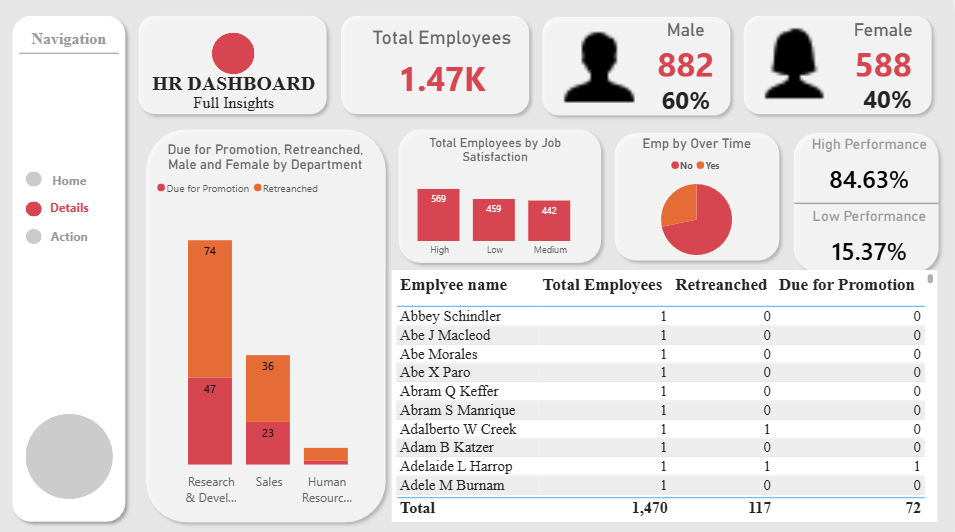

The dashboard page shown, as its layout file describes it:
{"tool":"powerbi","page":{"name":"Details","canvas":[1280,720],"ordinal":1},"visuals":[{"type":"shape","box":[16.5,12.3,168.8,693],"z":0},{"type":"shape","box":[185.2,12.3,269,149.6],"z":1000},{"type":"shape","box":[454.2,12.3,269,149.6],"z":2000},{"type":"shape","box":[723.2,13.7,269,149.6],"z":3000},{"type":"shape","box":[992.1,12.3,269,149.6],"z":4000},{"type":"shape","box":[194.9,163.3,337.6,542],"z":5000},{"type":"shape","box":[532.4,163.3,288.2,196.2],"z":6000},{"type":"shape","box":[820.6,168.8,237.4,188],"z":7000},{"type":"shape","box":[1058,168.8,211.3,203.1],"z":8000},{"type":"cardVisual","title":"Total Employees","fields":{"Data":["All Measures.Total Employees"]},"box":[475.7,35.7,247.1,107.1],"z":9000},{"type":"cardVisual","title":"Female","fields":{"Data":["All Measures.Female"]},"box":[1115.7,25.7,144.3,94.3],"z":10000},{"type":"cardVisual","title":"Male","fields":{"Data":["All Measures.Male"]},"box":[857.1,25.7,134.3,94.3],"z":11000},{"type":"cardVisual","title":"Total Employees","fields":{"Data":["All Measures.% male"]},"box":[857.1,98.6,134.3,65.7],"z":12000},{"type":"cardVisual","title":"Total Employees","fields":{"Data":["All Measures.% female"]},"box":[1127.1,91.4,132.9,75.7],"z":13000},{"type":"textbox","box":[201.4,91.4,238.6,50],"z":14000},{"type":"textbox","box":[201.4,120,238.6,42.9],"z":15000},{"type":"shape","box":[291.4,42.9,57.1,55.7],"z":16000},{"type":"image","box":[1000,27.1,137.1,115.7],"z":17000},{"type":"image","box":[740,31.4,137.1,115.7],"z":18000},{"type":"shape","box":[1067.6,264.8,192.1,12.3],"z":19000},{"type":"pieChart","title":"Emp by Over Time","fields":{"Y":["All Measures.Total Employees"],"Category":["Data.OverTime"]},"box":[832.9,179.8,209.9,177],"z":20000},{"type":"columnChart","title":"Total Employees by Job Satisfaction","fields":{"Category":["Data.Job Satisfaction levels"],"Y":["All Measures.Total Employees"]},"box":[532.4,179.8,275.8,171.5],"z":21000},{"type":"cardVisual","title":"High Performance","fields":{"Data":["All Measures.% High Performance"]},"box":[1069,181.1,200.3,90.6],"z":22000},{"type":"columnChart","fields":{"Y":["All Measures.Due for Promotion","All Measures.Retreanched"],"Category":["Data.Department"]},"box":[214.1,188,299.1,494],"z":23000},{"type":"cardVisual","title":"Low Performance","fields":{"Data":["All Measures.% Low Performance"]},"box":[1068.7,276.1,200,90.8],"z":24000},{"type":"tableEx","fields":{"Values":["HR employee data.Emplyee name","All Measures.Total Employees","All Measures.Retreanched","All Measures.Due for Promotion"]},"box":[532.4,359.5,727.3,336.2],"z":25000},{"type":"shape","box":[43.9,229.2,22,20.6],"z":26000},{"type":"shape","box":[43.9,267.6,22,20.6],"z":27000},{"type":"shape","box":[43.9,304.6,22,20.6],"z":28000},{"type":"shape","box":[43.9,551.6,116.6,113.9],"z":29000},{"type":"textbox","box":[16.5,35.7,168.8,43.9],"z":30000},{"type":"shape","box":[35.7,64.5,133.1,12.3],"z":31000},{"type":"actionButton","box":[52.1,295,100.2,39.8],"z":32000},{"type":"actionButton","box":[52.1,256.6,100.2,39.8],"z":33000},{"type":"actionButton","box":[52.1,219.6,100.2,39.8],"z":34000}]}

Visuals, with their boxes in screenshot pixels (x1, y1, x2, y2), scaled from the page's 1280x720 canvas onto the 955x532 screenshot:
shape: Rect(12, 9, 138, 521)
shape: Rect(138, 9, 339, 120)
shape: Rect(339, 9, 540, 120)
shape: Rect(540, 10, 740, 121)
shape: Rect(740, 9, 941, 120)
shape: Rect(145, 121, 397, 521)
shape: Rect(397, 121, 612, 266)
shape: Rect(612, 125, 789, 264)
shape: Rect(789, 125, 947, 275)
"Total Employees" cardVisual: Rect(355, 26, 539, 106)
"Female" cardVisual: Rect(832, 19, 940, 89)
"Male" cardVisual: Rect(639, 19, 740, 89)
"Total Employees" cardVisual: Rect(639, 73, 740, 121)
"Total Employees" cardVisual: Rect(841, 68, 940, 123)
textbox: Rect(150, 68, 328, 104)
textbox: Rect(150, 89, 328, 120)
shape: Rect(217, 32, 260, 73)
image: Rect(746, 20, 848, 106)
image: Rect(552, 23, 654, 109)
shape: Rect(797, 196, 940, 205)
"Emp by Over Time" pieChart: Rect(621, 133, 778, 264)
"Total Employees by Job Satisfaction" columnChart: Rect(397, 133, 603, 260)
"High Performance" cardVisual: Rect(798, 134, 947, 201)
columnChart - All Measures.Due for Promotion x All Measures.Retreanched: Rect(160, 139, 383, 504)
"Low Performance" cardVisual: Rect(797, 204, 947, 271)
tableEx - HR employee data.Emplyee name x All Measures.Total Employees: Rect(397, 266, 940, 514)
shape: Rect(33, 169, 49, 185)
shape: Rect(33, 198, 49, 213)
shape: Rect(33, 225, 49, 240)
shape: Rect(33, 408, 120, 492)
textbox: Rect(12, 26, 138, 59)
shape: Rect(27, 48, 126, 57)
actionButton: Rect(39, 218, 114, 247)
actionButton: Rect(39, 190, 114, 219)
actionButton: Rect(39, 162, 114, 192)
